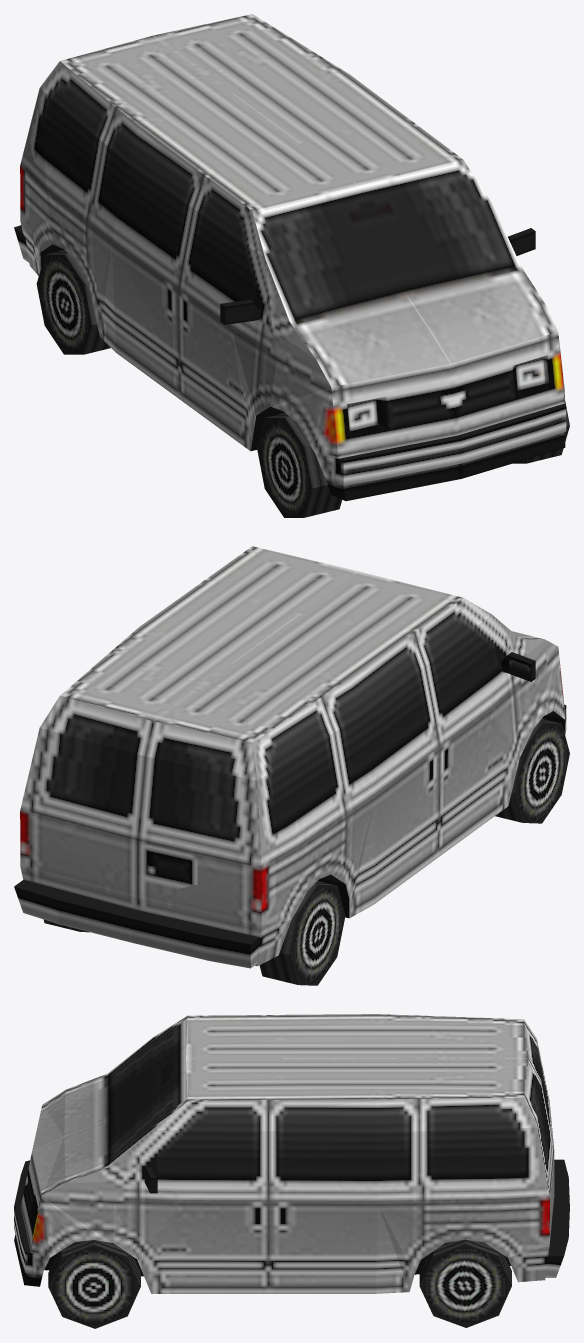
Rendered from Auto5blanco.fbx.
3 views of the same model, one above another, from view 1: azimuth 30°, elevation 25°; view 2: azimuth 150°, elevation 25°; view 3: azimuth 270°, elevation 25° (orthographic). The views are drawn at different scales.
Visible parts, largest first — view 1: Car4; view 2: Car4; view 3: Car4.
Boxes of the visible parts, x1,y1,x2,y2 form: Car4: [14, 14, 569, 517]; Car4: [14, 546, 569, 985]; Car4: [14, 1014, 569, 1328].
Bounding box in the file's own units: 340 × 274 × 630.
